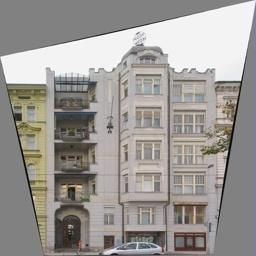building: (46, 44, 216, 256)
